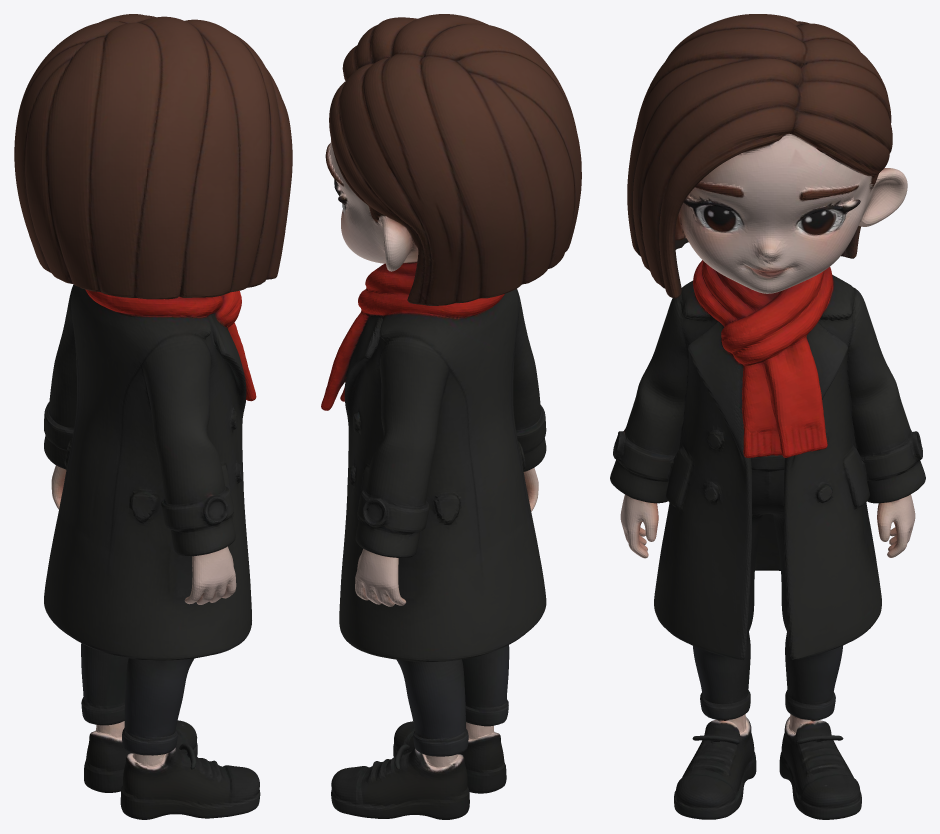
3 views of the same model, side by side, from view 1: azimuth 30°, elevation 25°; view 2: azimuth 150°, elevation 25°; view 3: azimuth 270°, elevation 25° (orthographic).
Visible parts, largest first — view 1: ZBrush_defualt_group; view 2: ZBrush_defualt_group; view 3: ZBrush_defualt_group.
Boxes of the visible parts, x1,y1,x2,y2 form: ZBrush_defualt_group: (14,14,292,819); ZBrush_defualt_group: (321,14,581,819); ZBrush_defualt_group: (610,14,925,819).
Bounding box in the file's own units: 0.3117 × 1 × 0.3778.
Materials: 1 (1 with a texture image).
